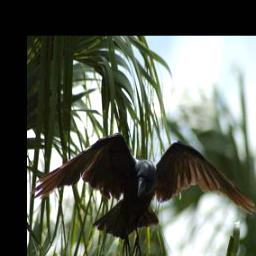Crow: (33, 130, 256, 256)
